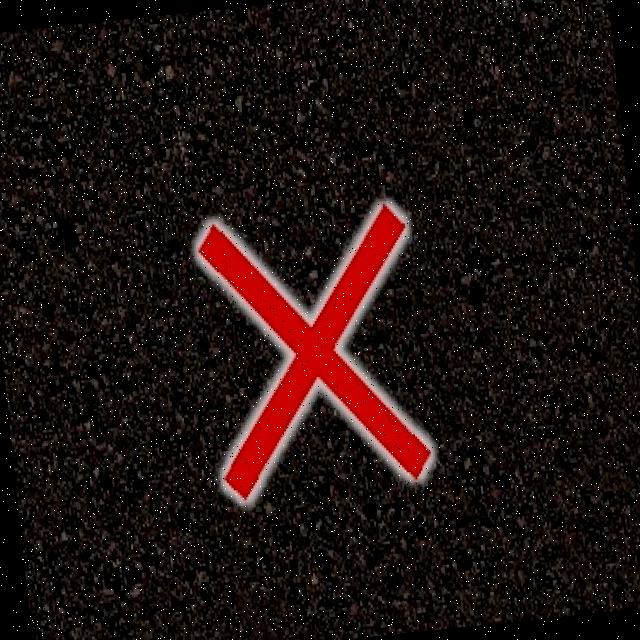x_marker: (194, 202, 432, 500)
